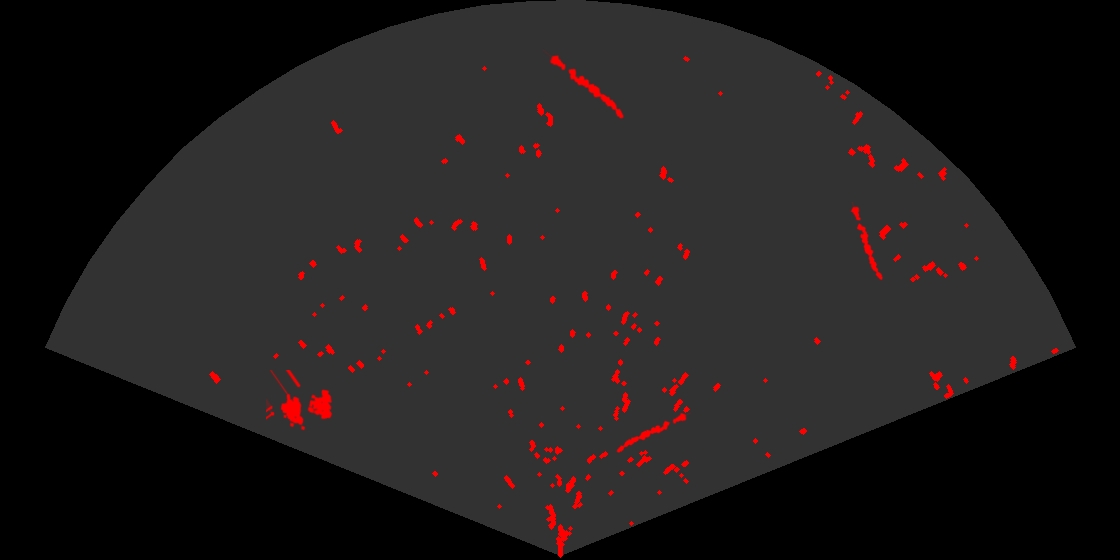cage: (266, 370, 334, 432)
chain: (543, 48, 626, 120), (615, 411, 691, 454), (849, 202, 884, 283)
